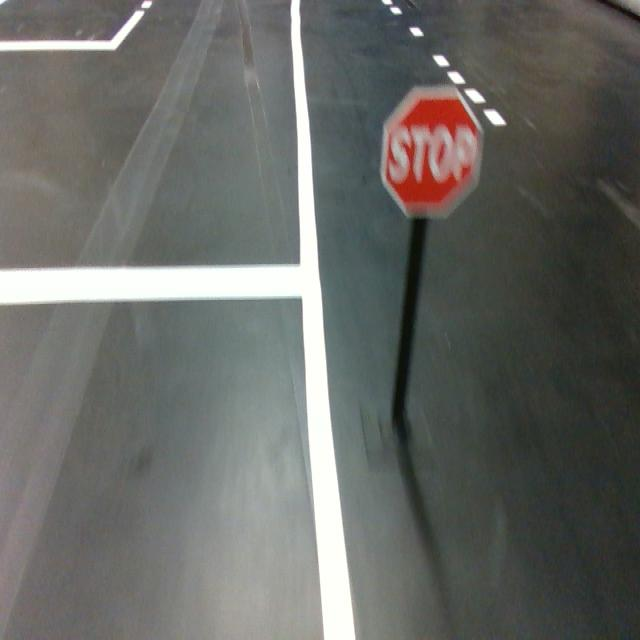stop-sign: (378, 84, 486, 221)
